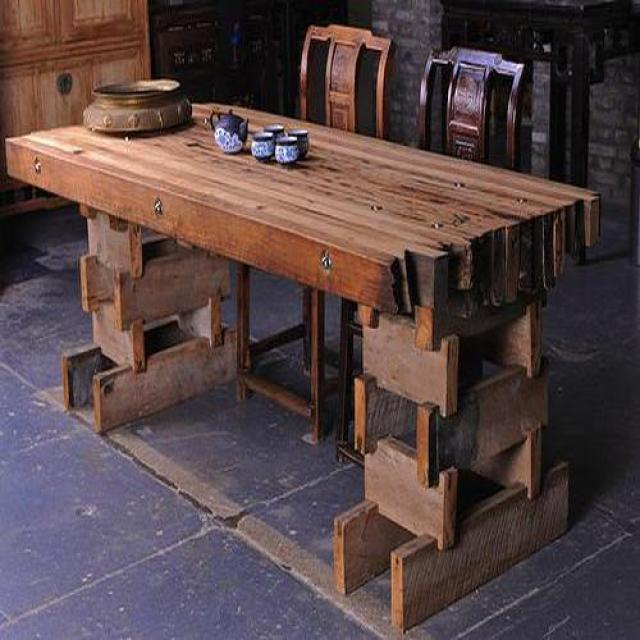table: (6, 105, 600, 634)
